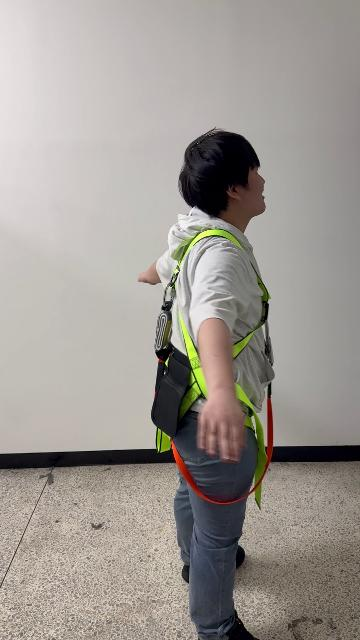helmet_not_worn: (178, 129, 269, 219)
shoe_worn: (208, 611, 261, 639)
vest_worn: (157, 238, 272, 489)
